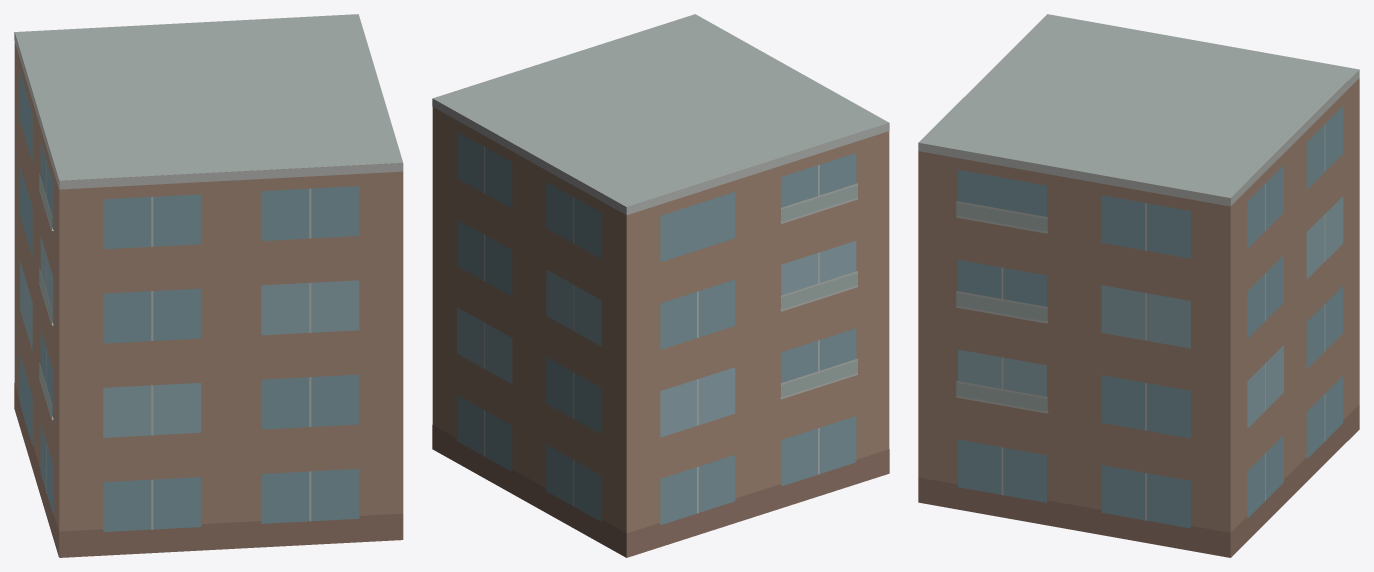
Rendered from survey-upis-32566677.glb.
3 views of the same model, side by side, from view 1: azimuth 30°, elevation 25°; view 2: azimuth 150°, elevation 25°; view 3: azimuth 270°, elevation 25° (orthographic). The views are drawn at different scales.
Visible parts, largest first — view 1: survey-upis-32566677.tmp; view 2: survey-upis-32566677.tmp; view 3: survey-upis-32566677.tmp.
Part boxes in pixels (box(x1,y1,x2,y2)): survey-upis-32566677.tmp: box(14, 14, 403, 557); survey-upis-32566677.tmp: box(432, 14, 889, 557); survey-upis-32566677.tmp: box(918, 14, 1359, 557).
Size of the model in its own units: 11.48 by 10.45 by 11.62.
